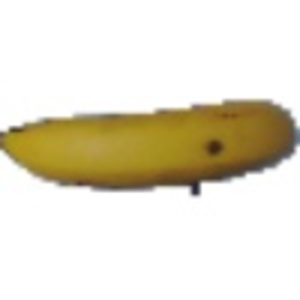banana: (3, 100, 290, 195)
